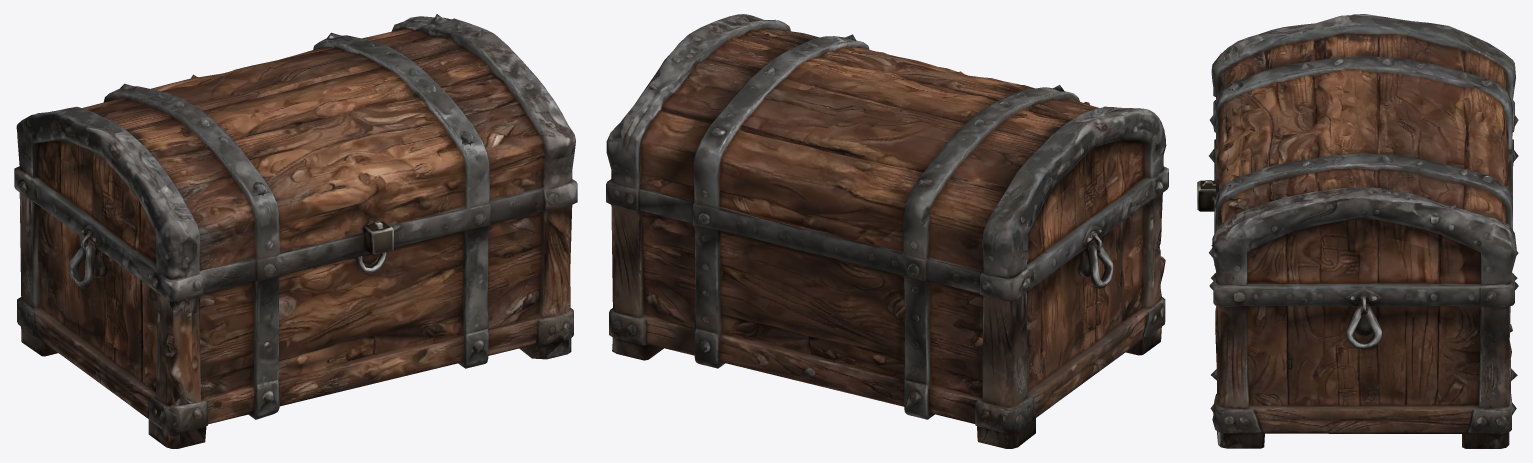
File: chest.glb
3 views of the same model, side by side, from view 1: azimuth 30°, elevation 25°; view 2: azimuth 150°, elevation 25°; view 3: azimuth 270°, elevation 25° (orthographic). The views are drawn at different scales.
Visible parts, largest first — view 1: tripo_node_2ad77203-fc5f-4e0d-9a45-5b93c563f0e7; view 2: tripo_node_2ad77203-fc5f-4e0d-9a45-5b93c563f0e7; view 3: tripo_node_2ad77203-fc5f-4e0d-9a45-5b93c563f0e7.
Boxes of the visible parts, x1=… form: tripo_node_2ad77203-fc5f-4e0d-9a45-5b93c563f0e7: x1=14, y1=14, x2=577, y2=448; tripo_node_2ad77203-fc5f-4e0d-9a45-5b93c563f0e7: x1=606, y1=14, x2=1168, y2=448; tripo_node_2ad77203-fc5f-4e0d-9a45-5b93c563f0e7: x1=1197, y1=14, x2=1518, y2=448.
Bounding box in the file's own units: 0.9795 × 0.5731 × 0.6536.
Materials: 1 (1 with a texture image).
